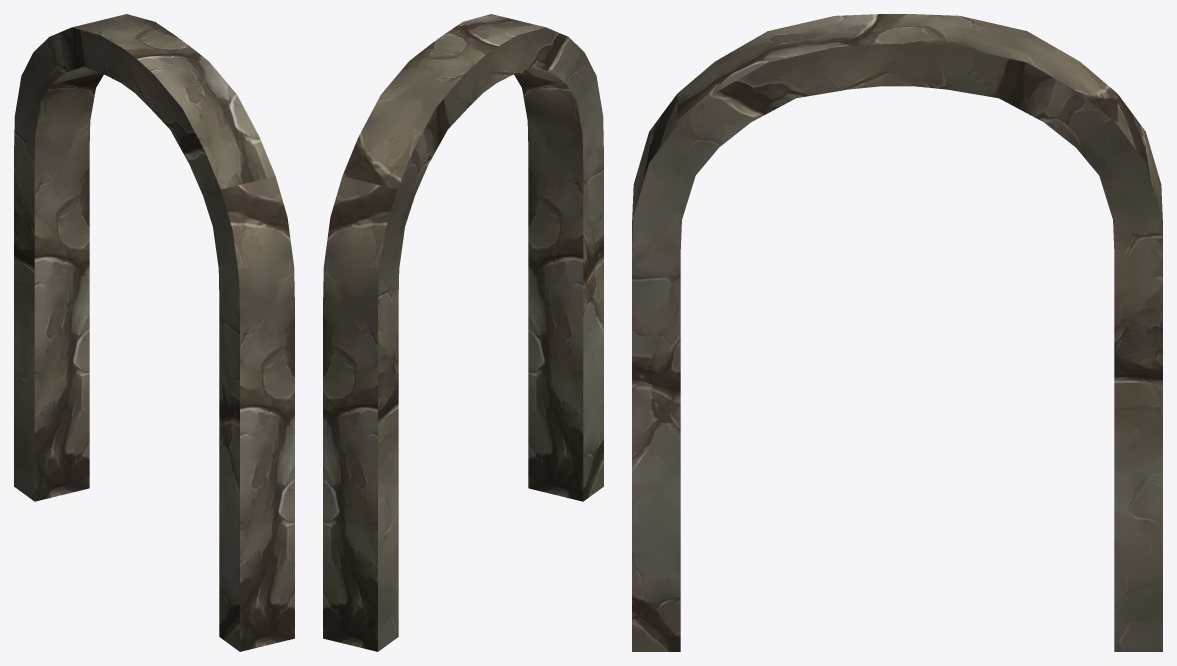
The model's file is Taverna 2 door mold.fbx.
3 views of the same model, side by side, from view 1: azimuth 30°, elevation 25°; view 2: azimuth 150°, elevation 25°; view 3: azimuth 270°, elevation 25° (orthographic). The views are drawn at different scales.
Visible parts, largest first — view 1: Cube.039; view 2: Cube.039; view 3: Cube.039.
Boxes of the visible parts, box(x1,y1,x2,y2) form: Cube.039: box(14, 14, 294, 651); Cube.039: box(323, 14, 603, 651); Cube.039: box(632, 14, 1162, 651).
Size of the model in its own units: 22.28 by 200 by 159.
